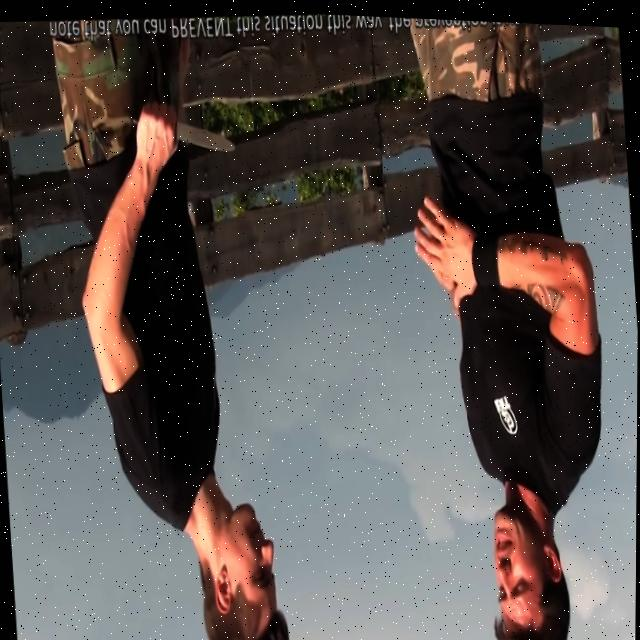knife: (173, 103, 237, 163)
